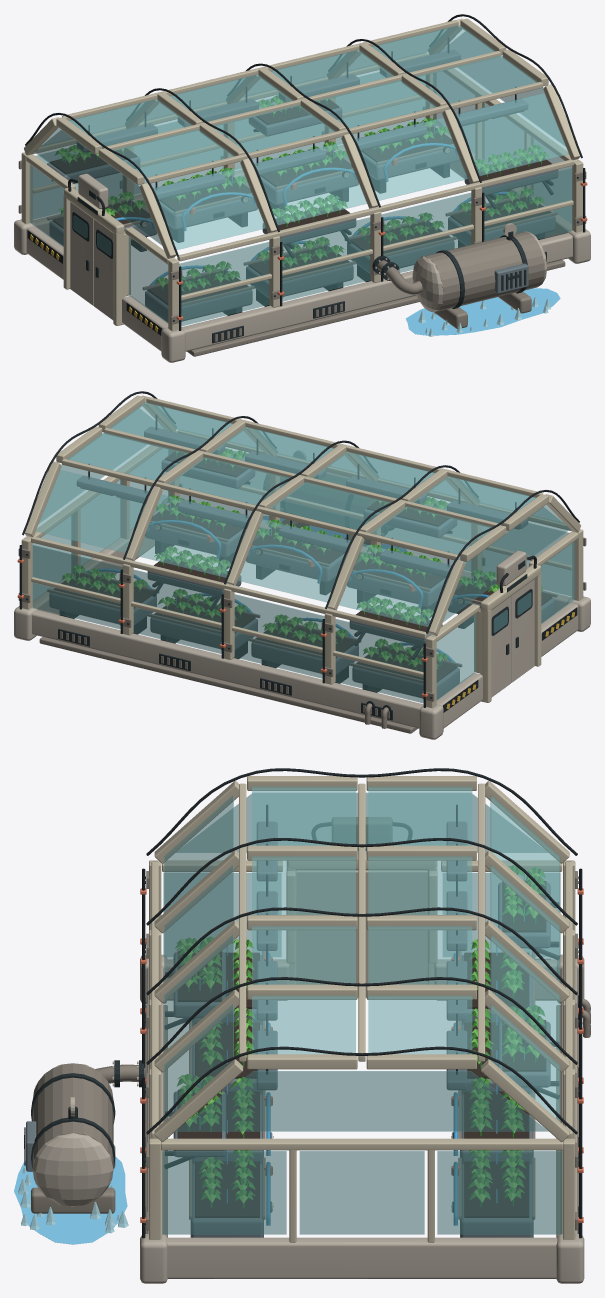
File: greenhouse-v001.glb
3 views of the same model, one above another, from view 1: azimuth 30°, elevation 25°; view 2: azimuth 150°, elevation 25°; view 3: azimuth 270°, elevation 25° (orthographic). The views are drawn at different scales.
Parts seen in each view (by area): view 1: TET_Estufa, PROP_Estufa_Canteiros, ARQ_Estufa_Parede_S, PROP_Estufa_Tanque_Bomba, PROP_Estufa_Plantas_Online, TET_Estufa_GrowLights, ARQ_Estufa_Vidro_Teto_2_3, ARQ_Estufa_Vidro_Teto_3_3, ARQ_Estufa_Vidro_Teto_0_3, ARQ_Estufa_Vidro_Teto_1_3, PROP_Estufa_Canteiros_Suspensos, ARQ_Estufa_Vidro_Empena_-1 (+41 smaller); view 2: TET_Estufa, PROP_Estufa_Canteiros, ARQ_Estufa_Parede_N, PROP_Estufa_Plantas_Online, TET_Estufa_GrowLights, ARQ_Estufa_Vidro_Teto_2_0, ARQ_Estufa_Vidro_Teto_3_0, ARQ_Estufa_Vidro_Teto_0_0, ARQ_Estufa_Vidro_Teto_1_0, PROP_Estufa_Canteiros_Suspensos, ARQ_Estufa_Vidro_Empena_-1, ARQ_Estufa_Parede_S (+39 smaller); view 3: TET_Estufa, ARQ_Estufa_Parede_L, PROP_Estufa_Canteiros, ARQ_Estufa_Vidro_Empena_1, ARQ_Estufa_Vidro_Empena_-1, PROP_Estufa_Tanque_Bomba, PROP_Estufa_Plantas_Online, ARQ_Estufa_Vidro_Fundo_-2.25, ARQ_Estufa_Vidro_Fundo_0, ARQ_Estufa_Vidro_Fundo_2.25, ARQ_Estufa_Parede_N, ARQ_Estufa_Parede_S (+26 smaller).
Boxes of the visible parts, x1,y1,x2,y2 form: TET_Estufa: (24,14,582,261); PROP_Estufa_Canteiros: (47,124,557,321); ARQ_Estufa_Parede_S: (161,160,590,362); PROP_Estufa_Tanque_Bomba: (372,223,547,328); PROP_Estufa_Plantas_Online: (55,95,549,292); TET_Estufa_GrowLights: (77,37,527,200); ARQ_Estufa_Vidro_Teto_2_3: (355,117,467,200); ARQ_Estufa_Vidro_Teto_3_3: (456,93,568,175); ARQ_Estufa_Vidro_Teto_0_3: (153,167,265,249); ARQ_Estufa_Vidro_Teto_1_3: (254,142,366,225); PROP_Estufa_Canteiros_Suspensos: (47,99,558,257); ARQ_Estufa_Vidro_Empena_-1: (34,130,161,245); TET_Estufa: (22,391,580,638); PROP_Estufa_Canteiros: (47,502,557,698); ARQ_Estufa_Parede_N: (14,537,443,739); PROP_Estufa_Plantas_Online: (62,448,542,669); TET_Estufa_GrowLights: (77,414,527,577); ARQ_Estufa_Vidro_Teto_2_0: (137,494,249,577); ARQ_Estufa_Vidro_Teto_3_0: (36,470,148,552); ARQ_Estufa_Vidro_Teto_0_0: (339,544,451,626); ARQ_Estufa_Vidro_Teto_1_0: (238,519,350,602); PROP_Estufa_Canteiros_Suspensos: (147,451,456,659); ARQ_Estufa_Vidro_Empena_-1: (443,507,570,622); ARQ_Estufa_Parede_S: (162,431,590,631); TET_Estufa: (146,768,577,1142); ARQ_Estufa_Parede_L: (161,1138,563,1278); PROP_Estufa_Canteiros: (189,951,535,1237); ARQ_Estufa_Vidro_Empena_1: (175,1071,548,1131); ARQ_Estufa_Vidro_Empena_-1: (176,792,547,852); PROP_Estufa_Tanque_Bomba: (24,1060,145,1213); PROP_Estufa_Plantas_Online: (175,865,545,1207); ARQ_Estufa_Vidro_Fundo_-2.25: (437,1151,562,1234); ARQ_Estufa_Vidro_Fundo_0: (299,1151,424,1234); ARQ_Estufa_Vidro_Fundo_2.25: (162,1151,286,1234); ARQ_Estufa_Parede_N: (556,860,590,1283); ARQ_Estufa_Parede_S: (140,860,167,1283).
Bounding box in the file's own units: 11.42 × 4.21 × 9.42.
